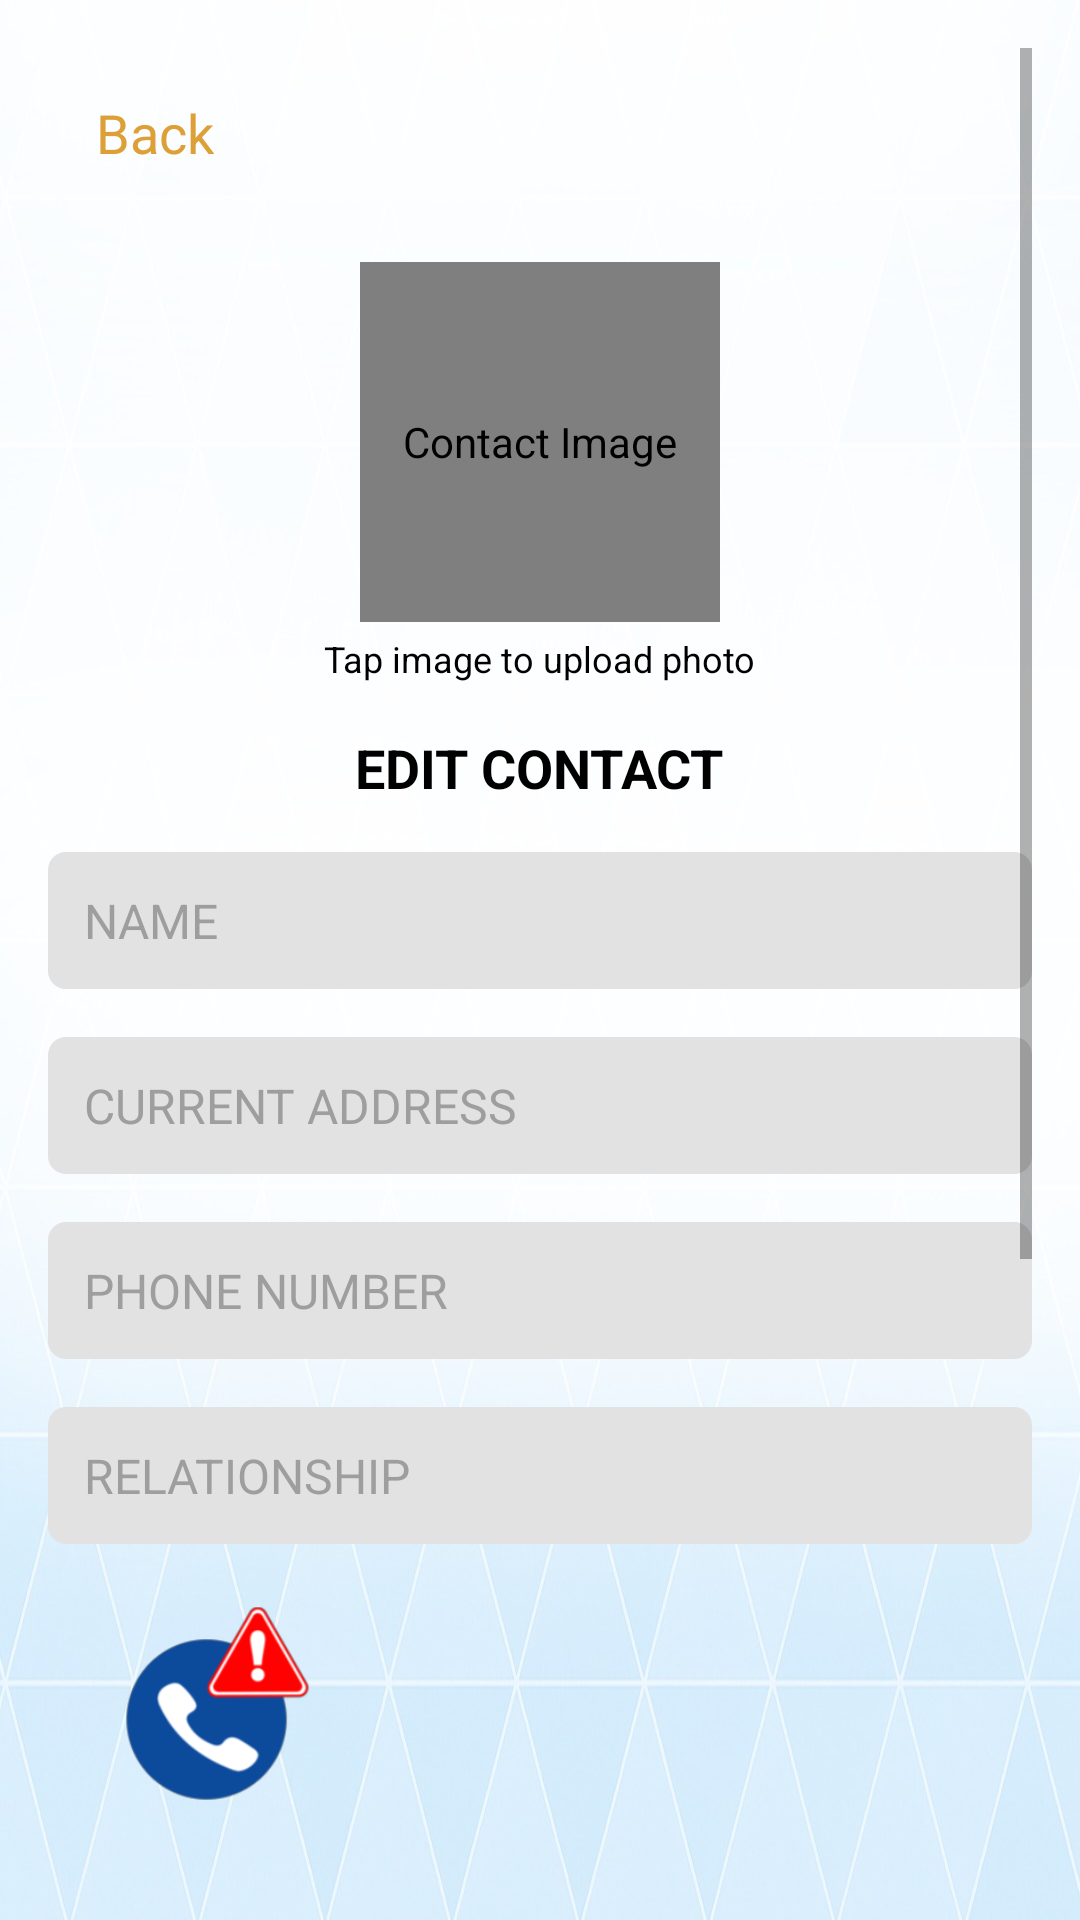

Screen size 1080 x 1920. Icon name, then its center in pixels as point (x, y):
emergencybutton: point (217, 1703)
